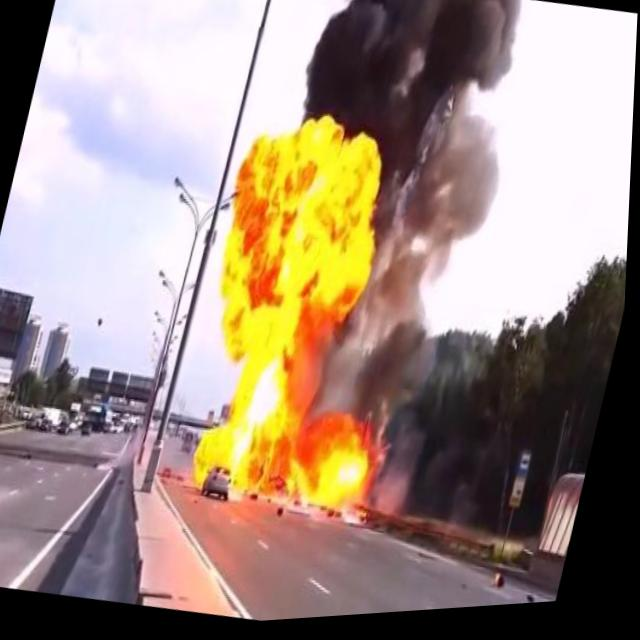fire: (164, 84, 468, 540)
